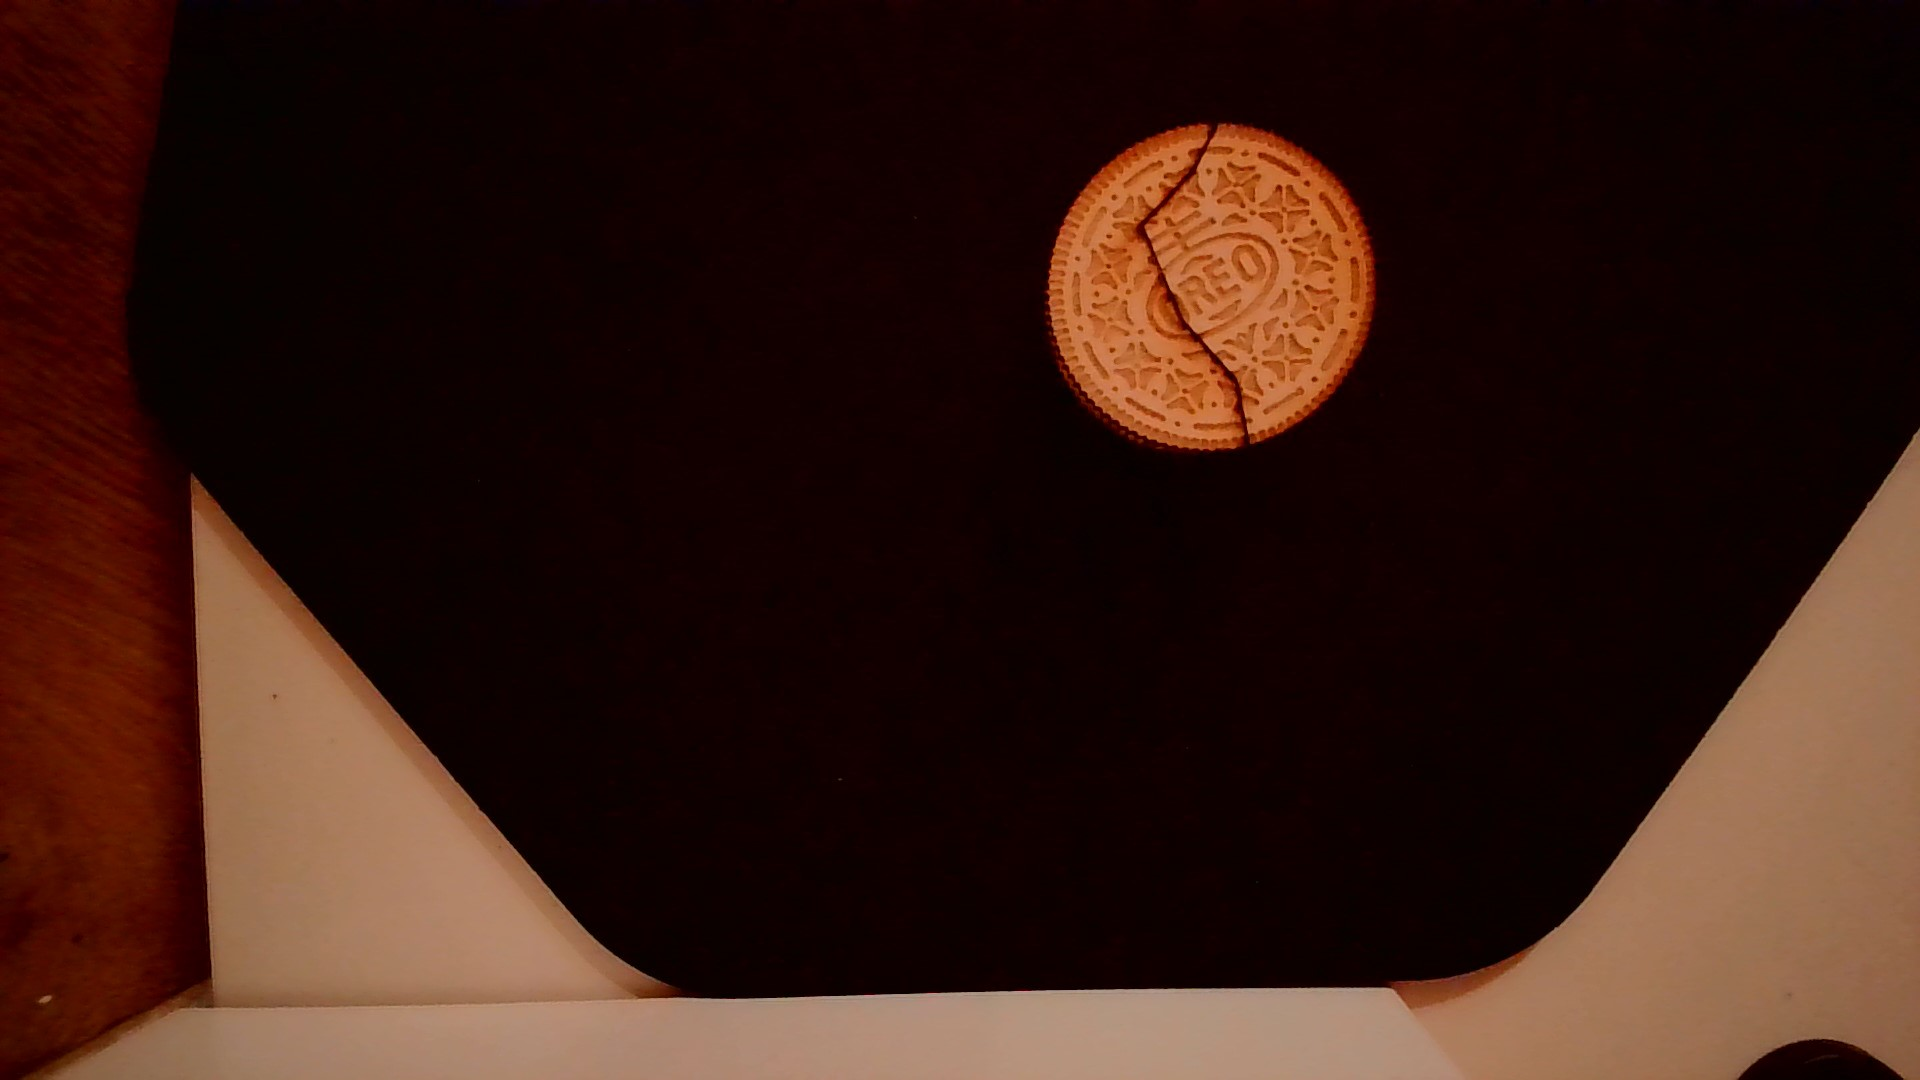Fissure: (1130, 105, 1251, 464)
Oréo: (1036, 113, 1386, 464)
